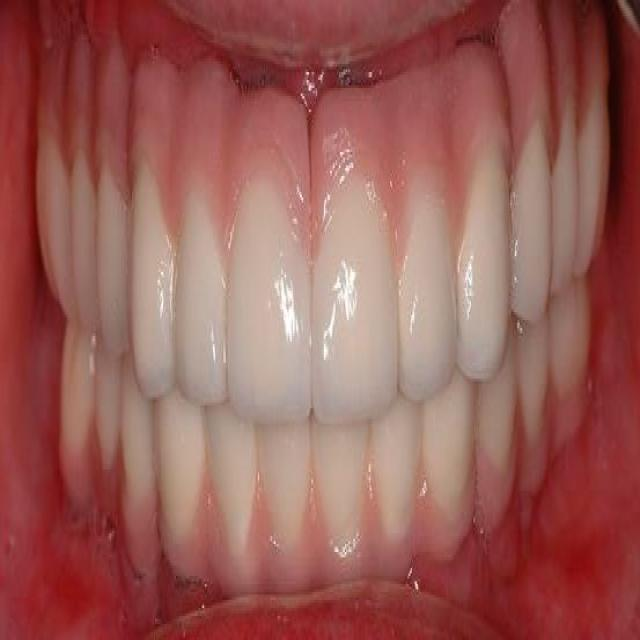1st Molar: (36, 139, 71, 315), (577, 88, 610, 264), (549, 284, 592, 407), (62, 327, 95, 453)
1st Premolar: (510, 120, 552, 325), (122, 360, 156, 548), (97, 165, 129, 355), (477, 329, 518, 469)
2nd Premolar: (68, 160, 99, 336), (552, 100, 579, 285), (520, 323, 549, 444), (94, 341, 119, 469)
Canine: (457, 139, 510, 381), (127, 160, 175, 400), (154, 397, 208, 560), (421, 373, 478, 519)
Central Incisor: (314, 184, 400, 427), (228, 181, 315, 421), (314, 424, 369, 557), (257, 421, 314, 549)
Lateral Incisor: (399, 183, 457, 405), (174, 200, 228, 408), (205, 405, 259, 565), (370, 396, 424, 553)
